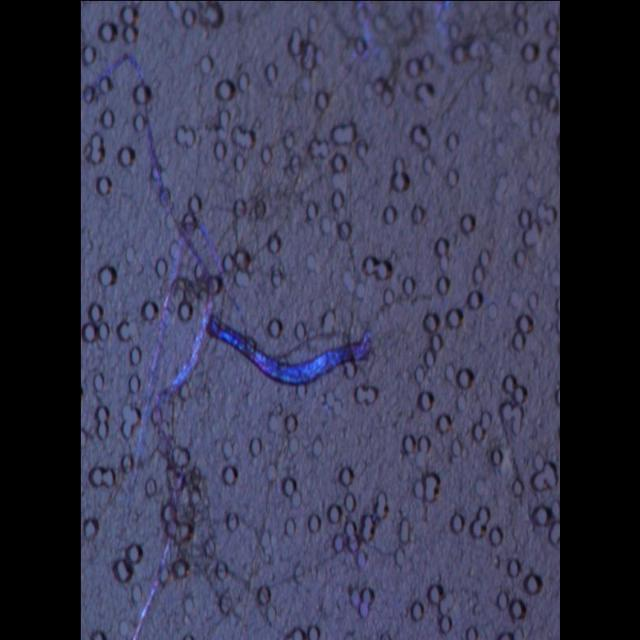Fibre: (80, 46, 376, 640)
